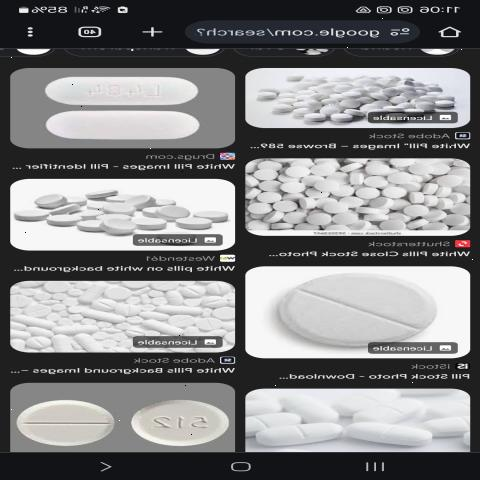Pill: (255, 274, 446, 354), (19, 108, 211, 144), (17, 73, 218, 105), (119, 391, 231, 448), (2, 394, 113, 451), (248, 414, 344, 454), (345, 417, 442, 446), (165, 211, 213, 234), (14, 205, 51, 226), (302, 176, 347, 192), (398, 162, 438, 180), (81, 188, 118, 204)
